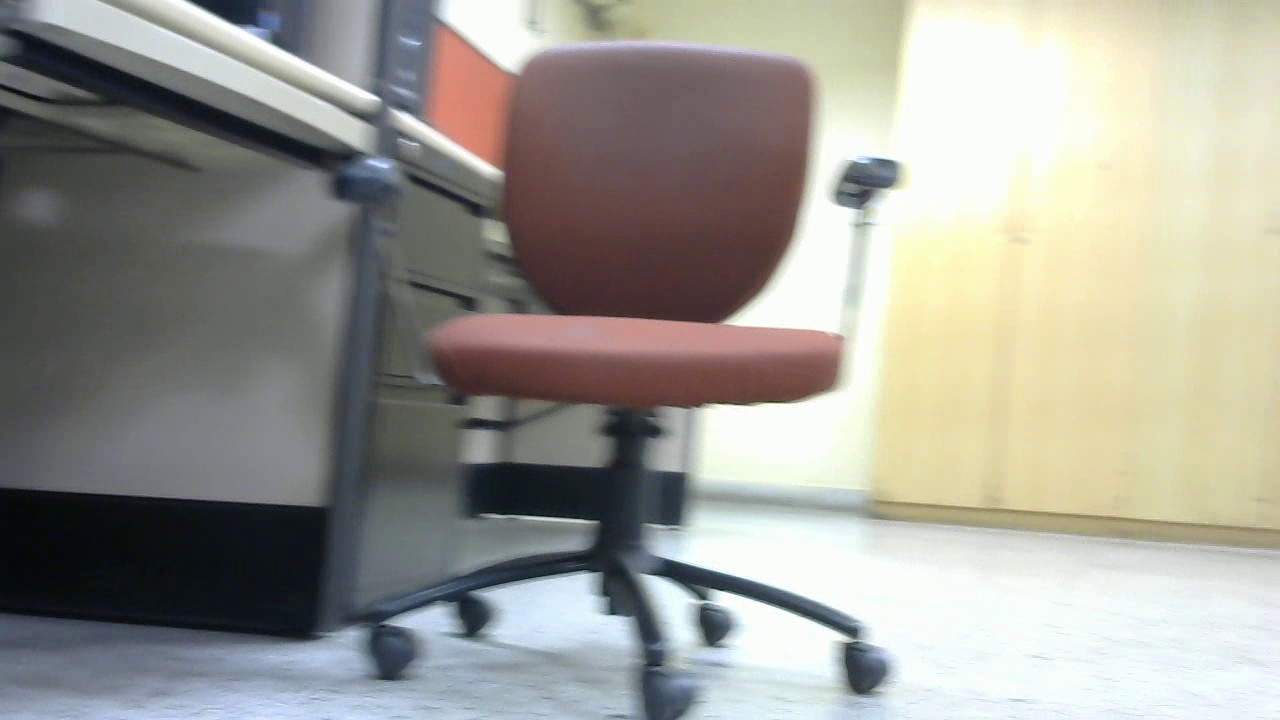chair: (322, 37, 903, 720)
